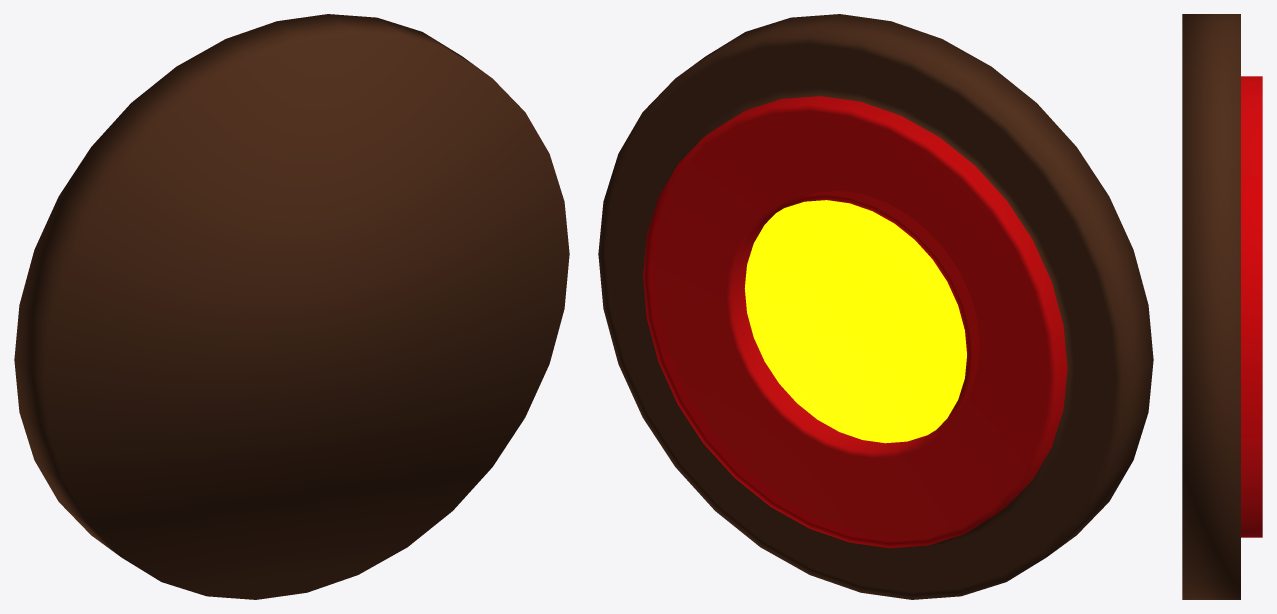
The model's file is Target.fbx.
3 views of the same model, side by side, from view 1: azimuth 30°, elevation 25°; view 2: azimuth 150°, elevation 25°; view 3: azimuth 270°, elevation 25° (orthographic). The views are drawn at different scales.
Parts seen in each view (by area): view 1: TargetWithEmissiveMaterial; view 2: TargetWithEmissiveMaterial; view 3: TargetWithEmissiveMaterial.
Part boxes in pixels (x1,y1,x2,y2): TargetWithEmissiveMaterial: [14, 14, 569, 599]; TargetWithEmissiveMaterial: [598, 14, 1153, 599]; TargetWithEmissiveMaterial: [1182, 14, 1262, 599].
Bounding box in the file's own units: 20 × 20 × 2.74.
